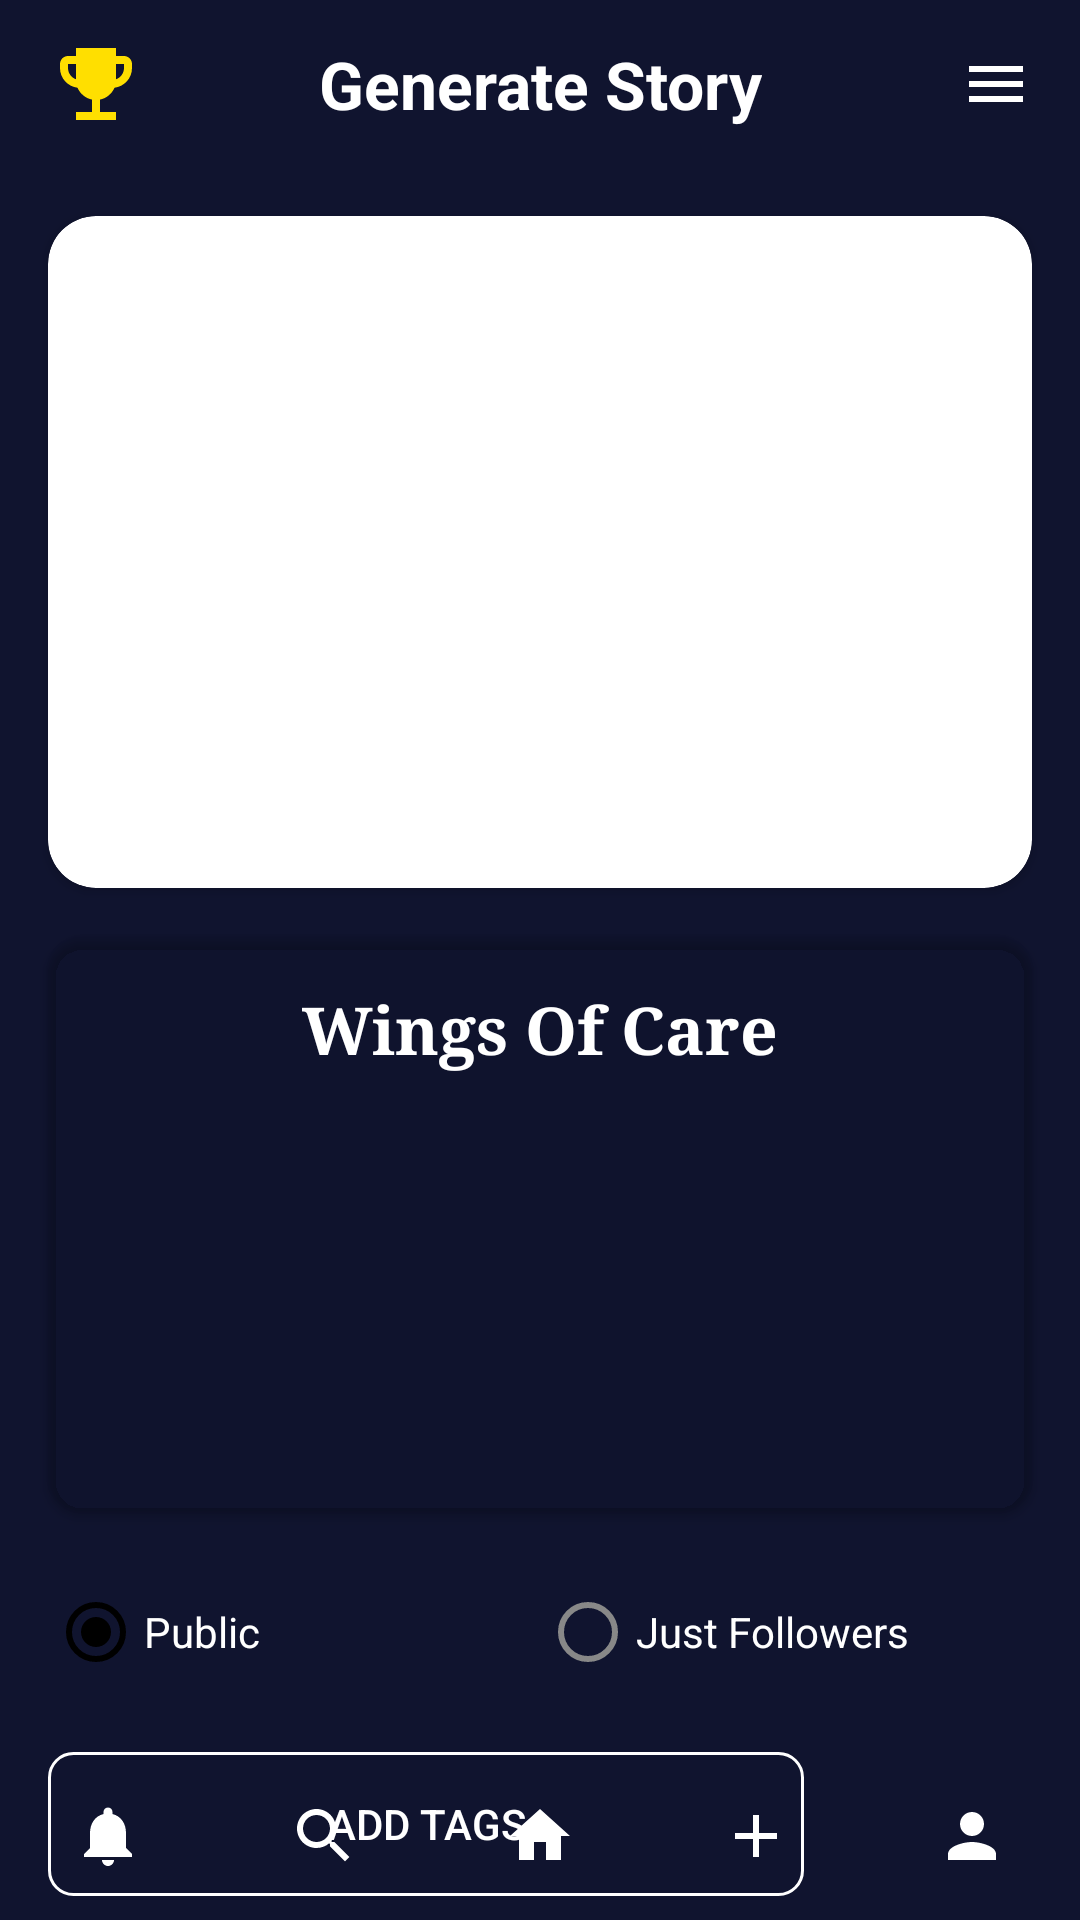

Point at icon controls on the screen. Image size 1080×1920, points as point (x, y).
menu: point (996, 84)
notifications: point (108, 1836)
trophy: point (96, 84)
